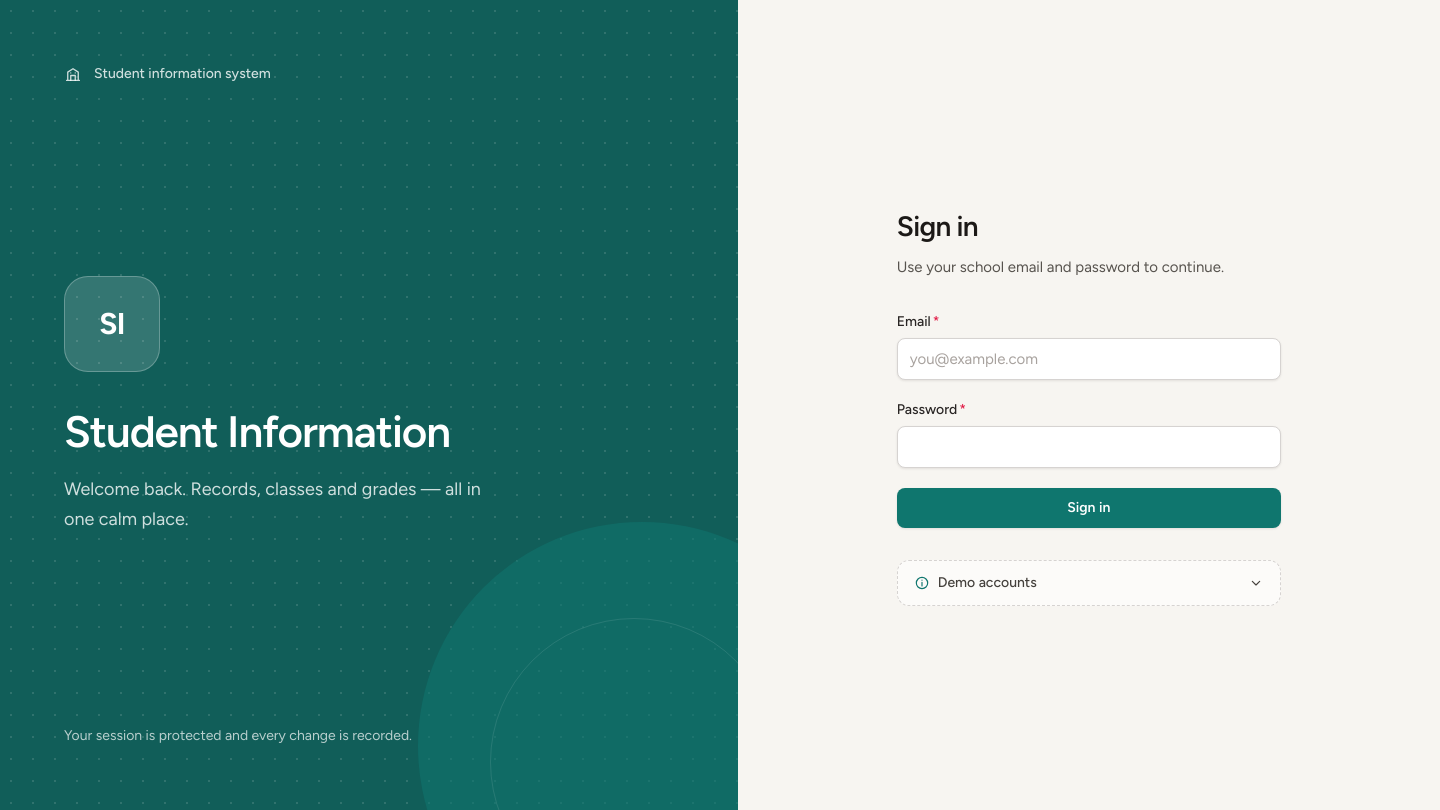
LoginPage › shows the email validation message when login fails
Type "bad@example.com" into the field labelled "Email*" at (1089,359), box [897,338,1281,380]
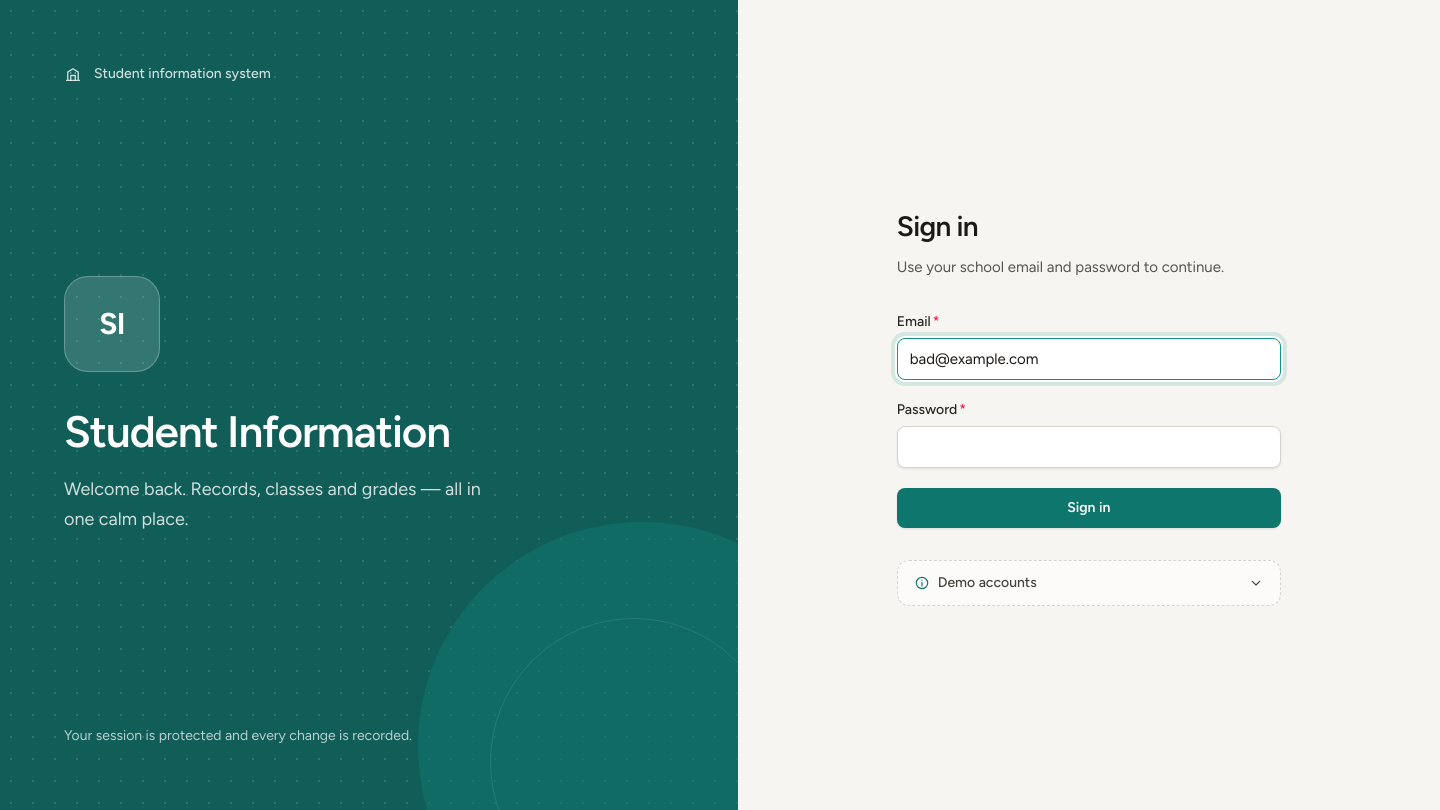
Type "incorrect" into the password field labelled "Password*" at (1089,447), box [897,426,1281,468]
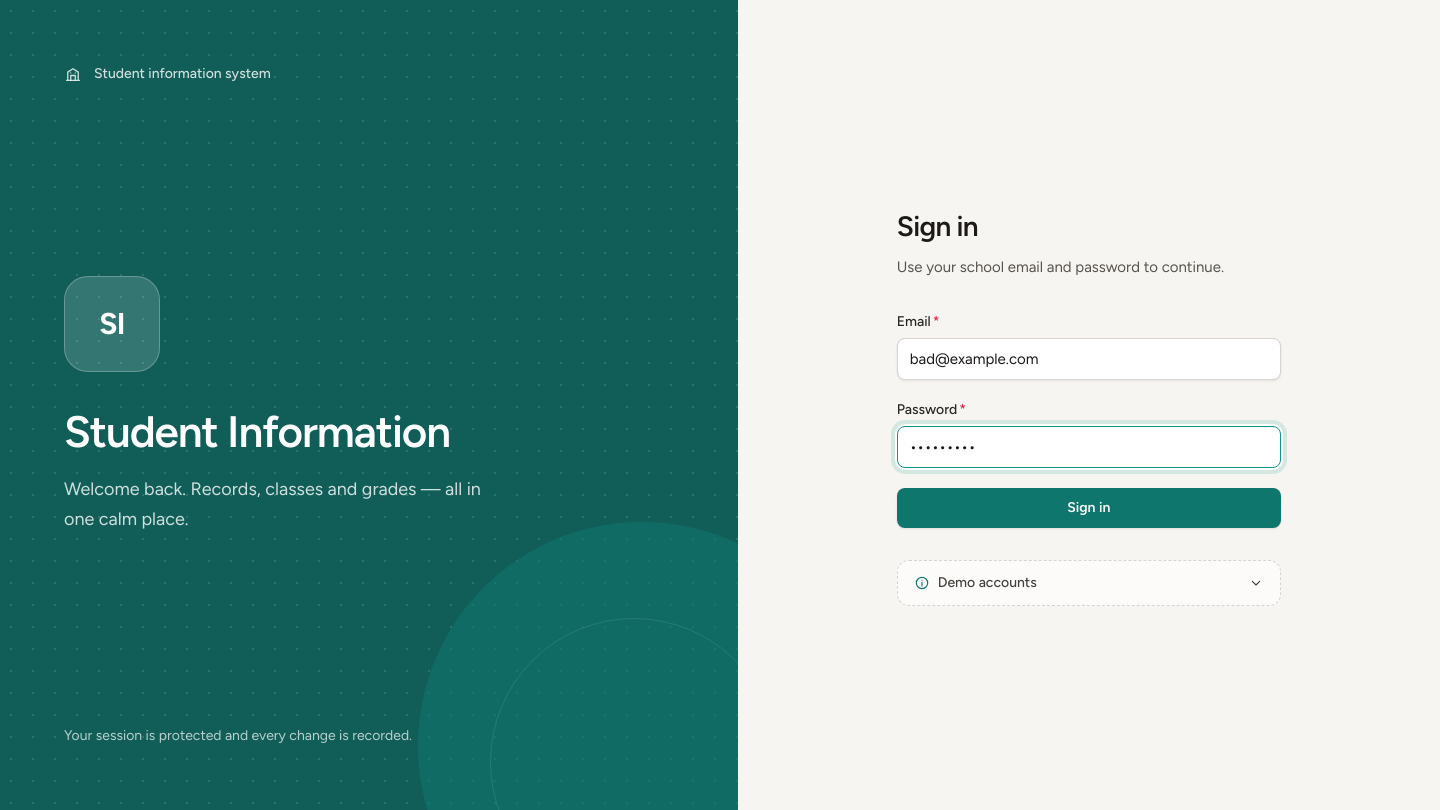
Click the button "Sign in" at (1089,508), box [897,488,1281,528]
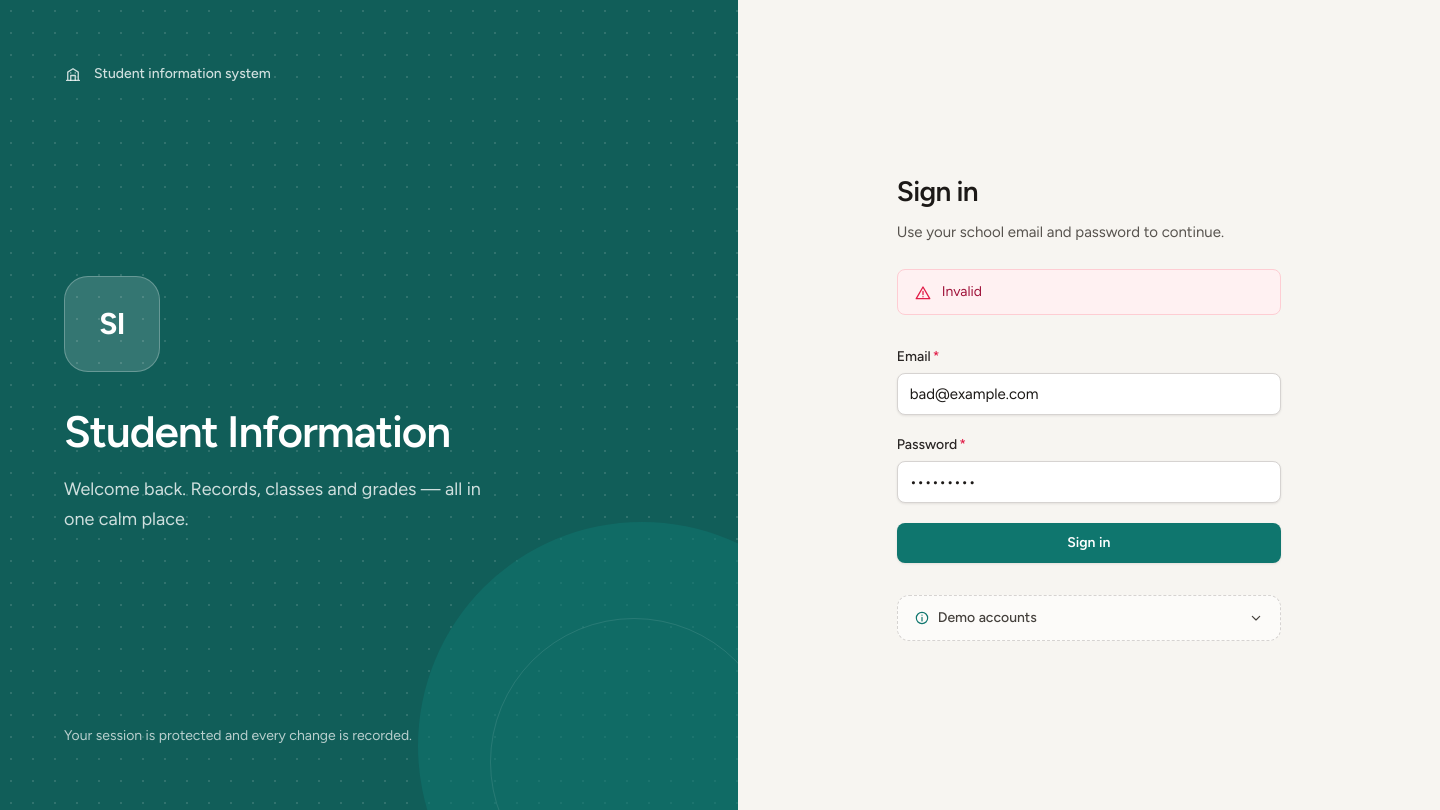
Now the message reads "Invalid", box [942,283,982,300]
